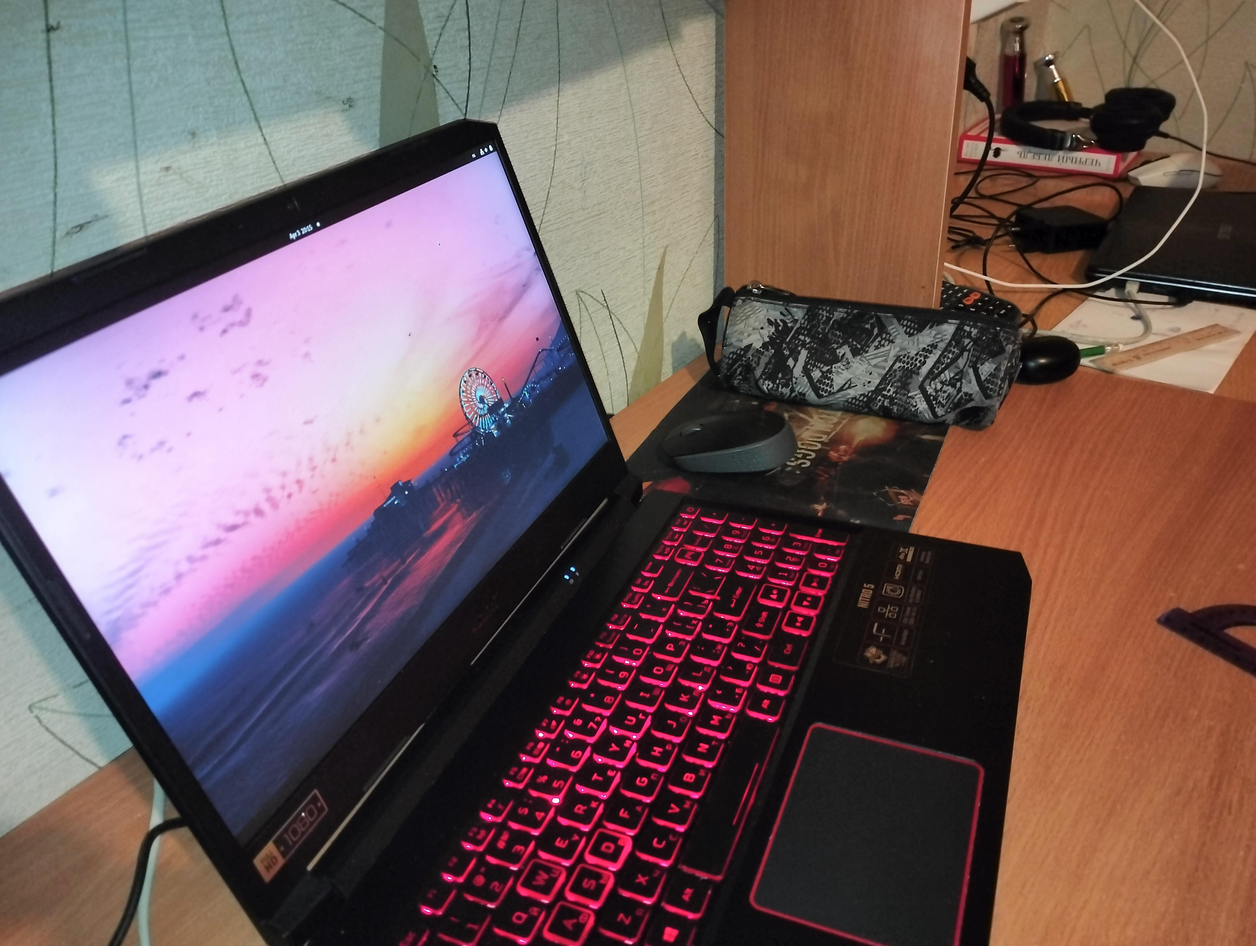monitor: (0, 109, 636, 946)
